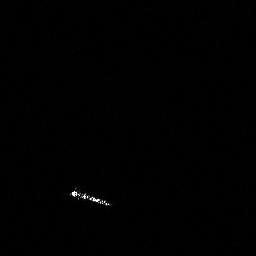ship: (68, 188, 112, 207)
